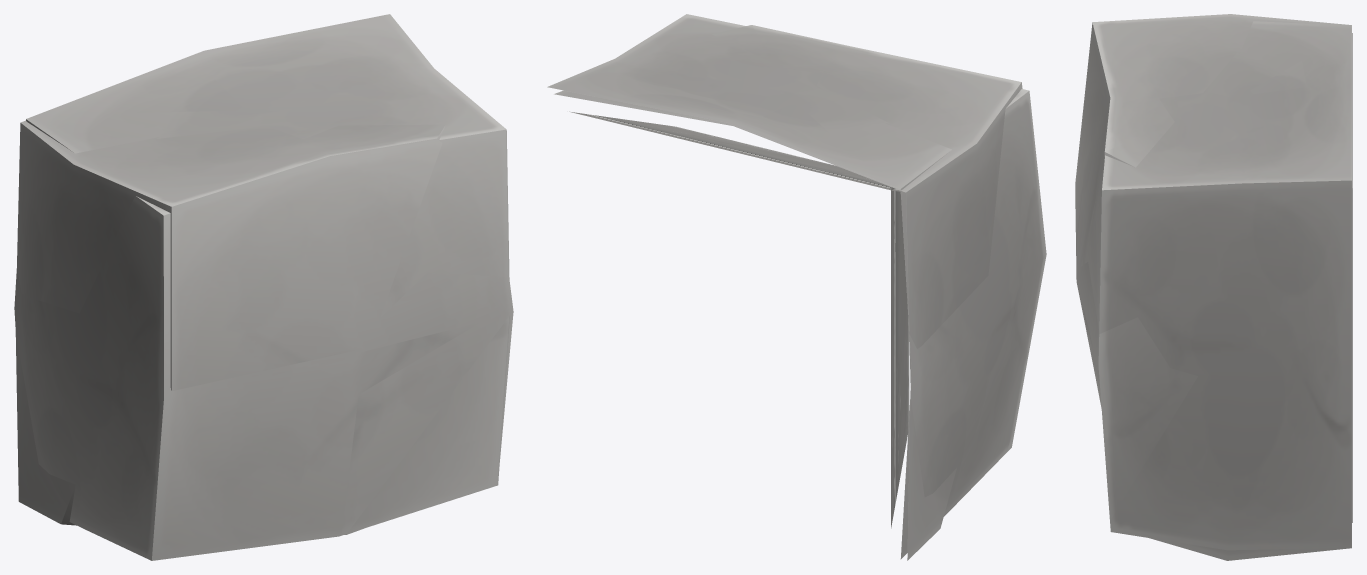
File: low_set.glb
3 renders of one model, left to right at view 1: azimuth 30°, elevation 25°; view 2: azimuth 150°, elevation 25°; view 3: azimuth 270°, elevation 25°, orthographic. The views are drawn at different scales.
Visible parts, largest first — view 1: rsrc.world.tileset.castle_light.fence.low_set-Variant[low_co (×2); view 2: rsrc.world.tileset.castle_light.fence.low_set-Variant[low_co (×2), rsrc.world.tileset.castle_light.fence.low_set-Variant[low_ve, rsrc.world.tileset.castle_light.fence.low_set-Variant[low_ho; view 3: rsrc.world.tileset.castle_light.fence.low_set-Variant[low_co (×2).
Boxes of the visible parts, left/top/right/bottom form: rsrc.world.tileset.castle_light.fence.low_set-Variant[low_co (×2): left=14, top=14, right=513, bottom=560; rsrc.world.tileset.castle_light.fence.low_set-Variant[low_co (×2): left=547, top=14, right=1046, bottom=560; rsrc.world.tileset.castle_light.fence.low_set-Variant[low_ve: left=891, top=187, right=909, bottom=528; rsrc.world.tileset.castle_light.fence.low_set-Variant[low_ho: left=569, top=111, right=900, bottom=191; rsrc.world.tileset.castle_light.fence.low_set-Variant[low_co (×2): left=1075, top=14, right=1351, bottom=560.
Size of the model in its own units: 1.18 by 1.22 by 0.754.
2 materials, 2 textured.
